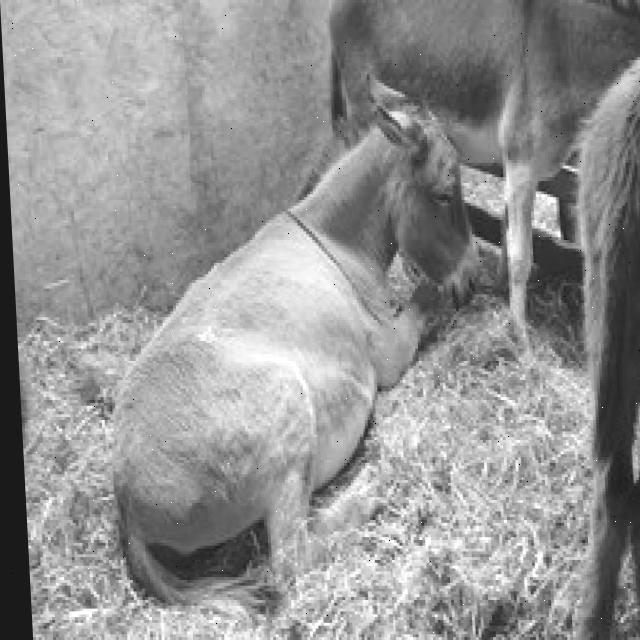Donkey: (89, 71, 498, 623), (320, 0, 640, 346), (535, 20, 640, 637)
